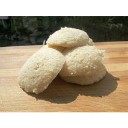idly: (21, 47, 65, 95), (62, 47, 102, 76), (45, 27, 88, 50)
